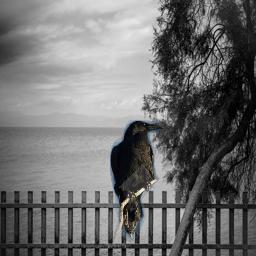Crow: (110, 120, 164, 242)
